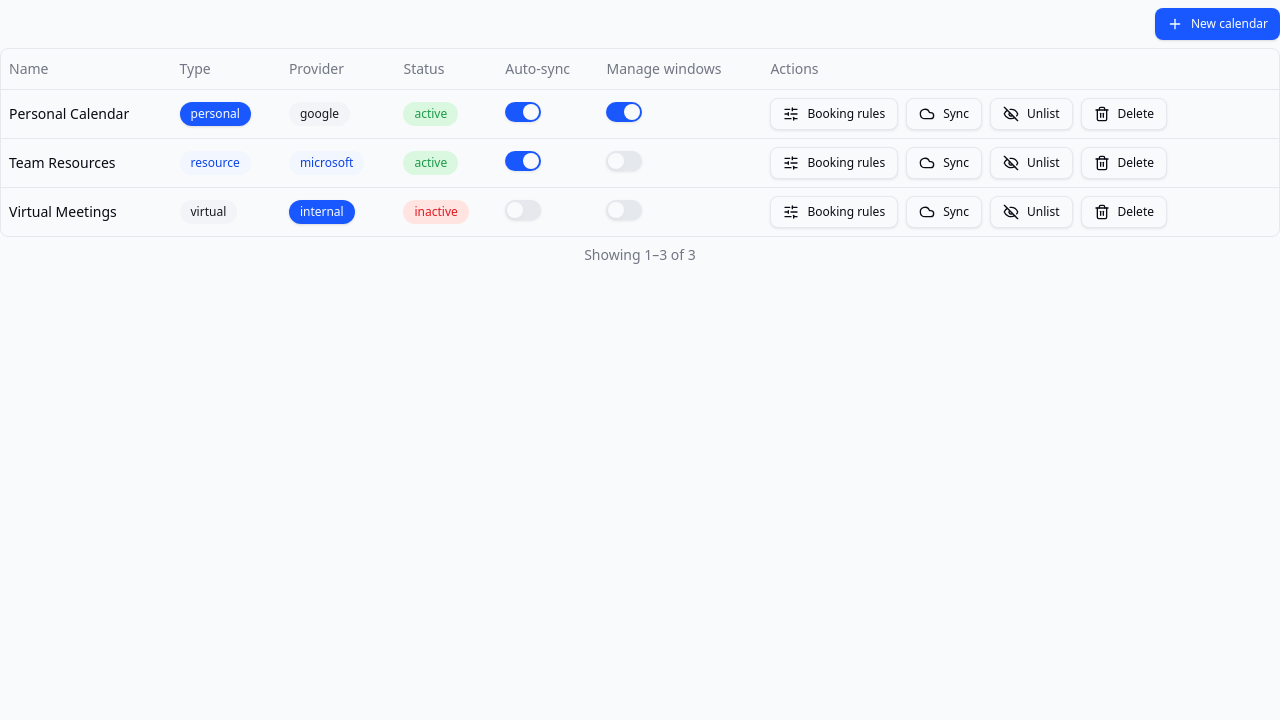
CalendarsTable › delete calendar action › opens a confirm dialog when delete button is clicked
Expected: the text "Personal Calendar" is shown, [9, 104, 129, 122]
# Click the first delete button.
Click the button "Delete" in the row of "Personal Calendar". click: (1124, 114)
box: [1080, 98, 1167, 130]
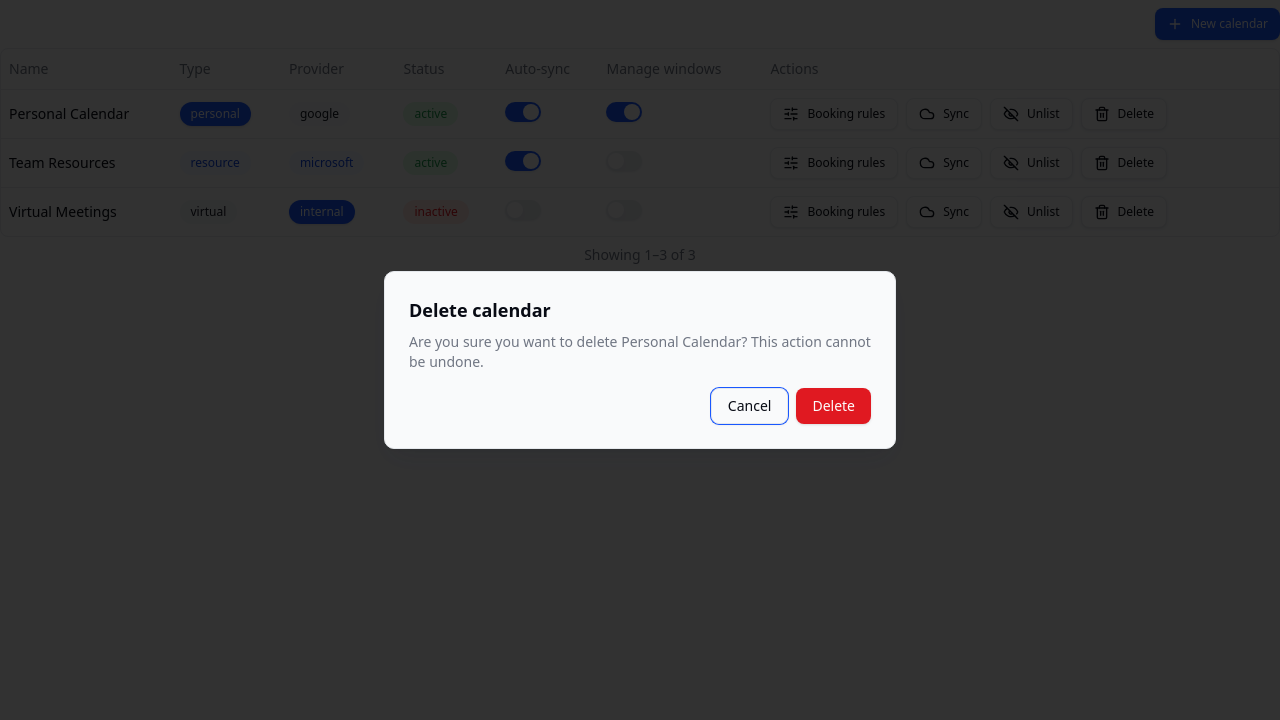
Now the heading "Delete calendar" is shown, box [409, 298, 551, 322]
Now the text "Are you sure you want to delete" is shown, box [409, 332, 618, 351]
